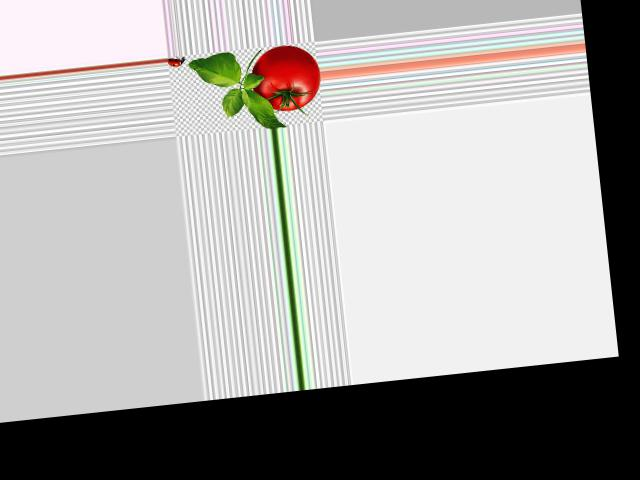tomato: (248, 42, 323, 113)
